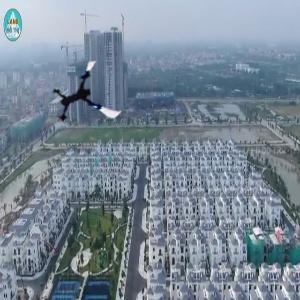drone: (49, 59, 121, 131)
